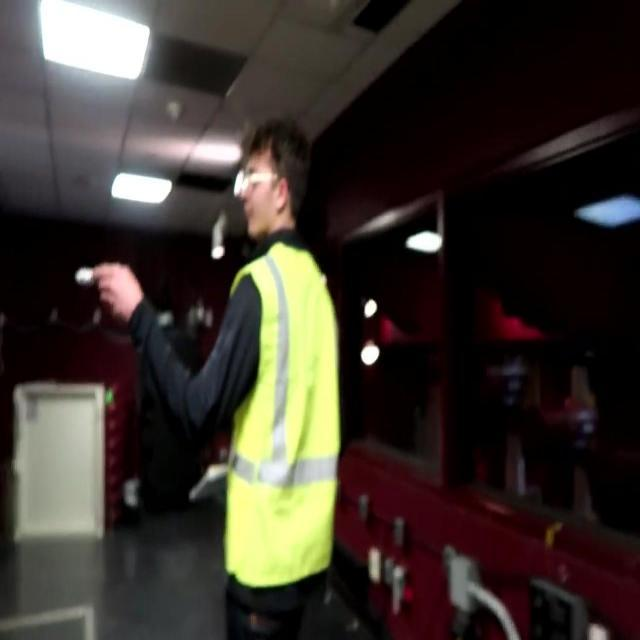reflective_jacket: (203, 236, 359, 602)
